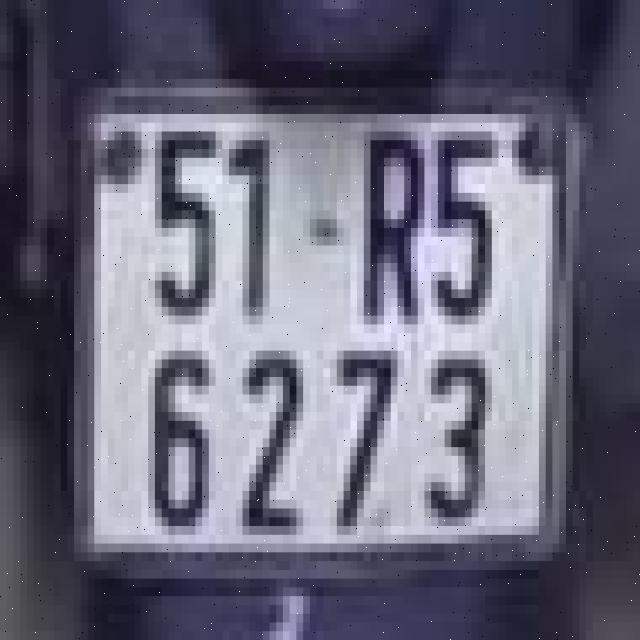1: (222, 114, 283, 324)
2: (229, 337, 317, 548)
3: (414, 342, 502, 543)
5: (431, 123, 505, 342), (152, 123, 226, 333)
6: (135, 338, 222, 539)
7: (327, 342, 401, 535)
R: (353, 110, 428, 338)
